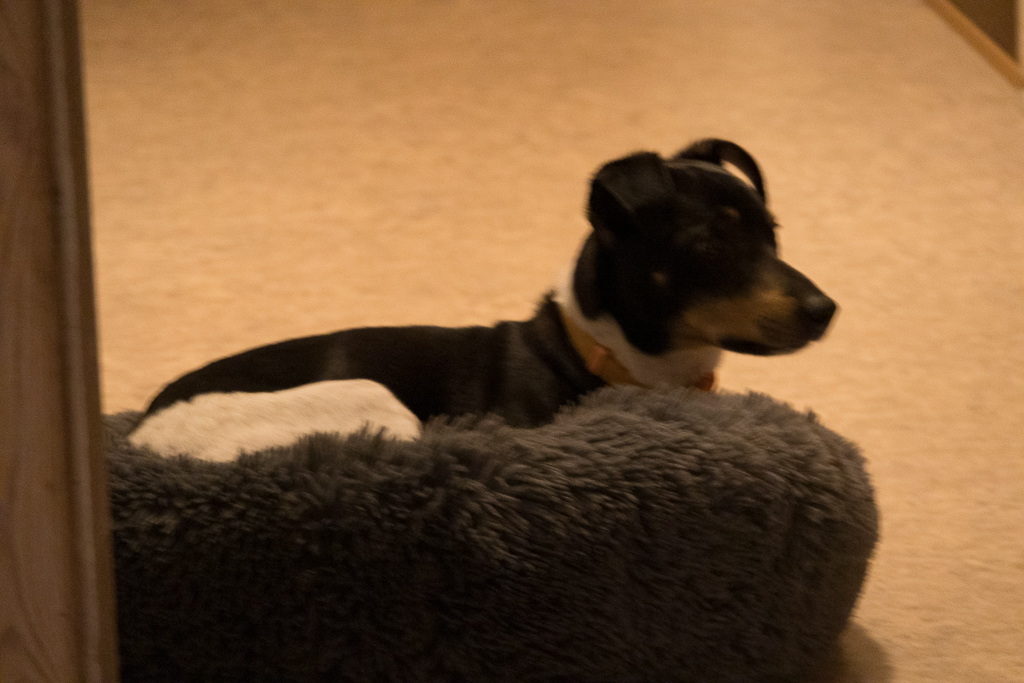Dog: (106, 118, 854, 470)
